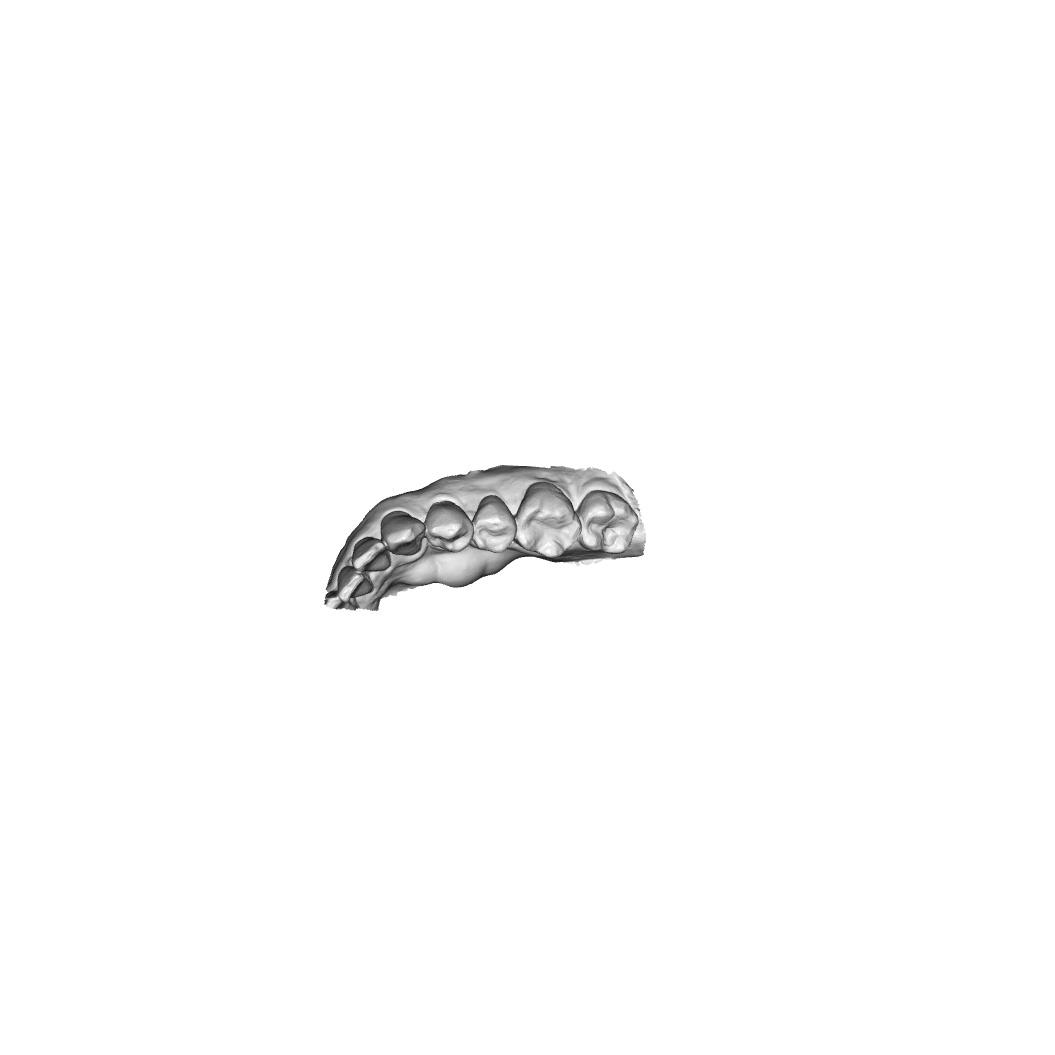canine: (379, 509, 426, 556)
incisor: (336, 565, 376, 604), (352, 536, 392, 572)
molar: (514, 481, 582, 559), (576, 488, 639, 555)
premolar: (471, 494, 518, 554), (423, 500, 474, 553)
